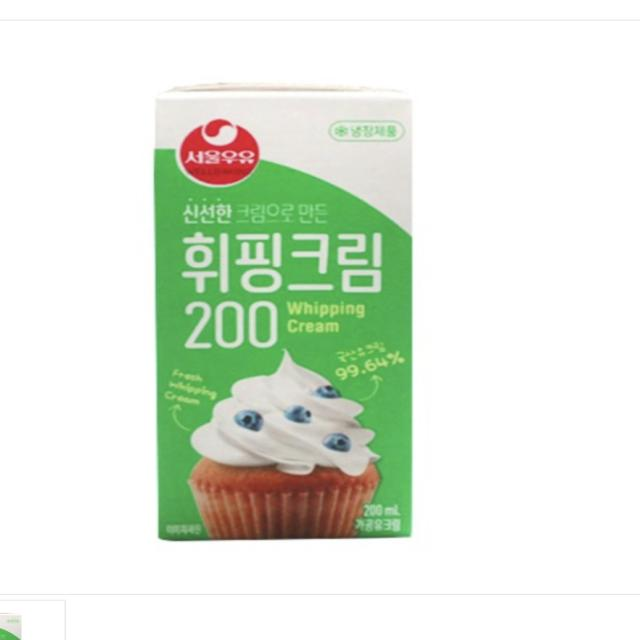biodegradable: (110, 52, 473, 570)
